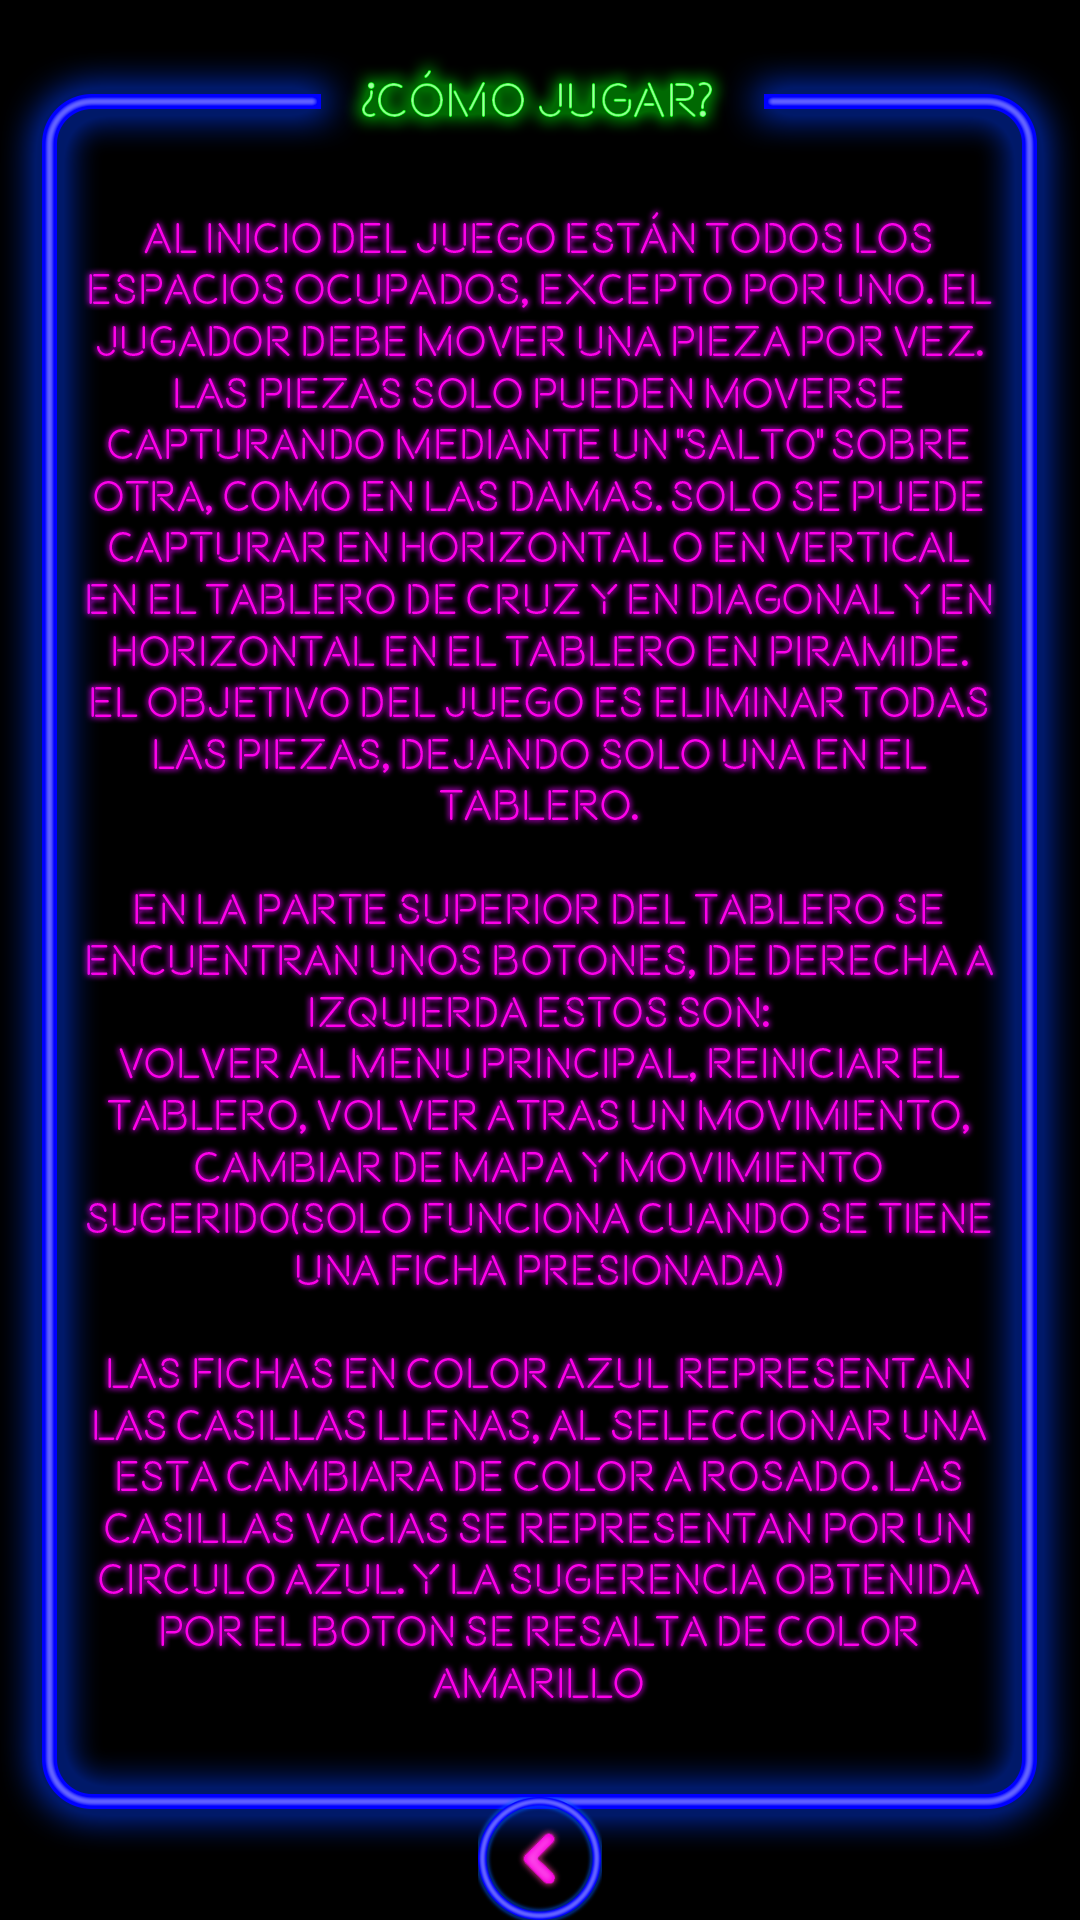

Screen size 1080*1920. Icon name, then its center in pixels as (x,y):
Atras: (540,1858)
